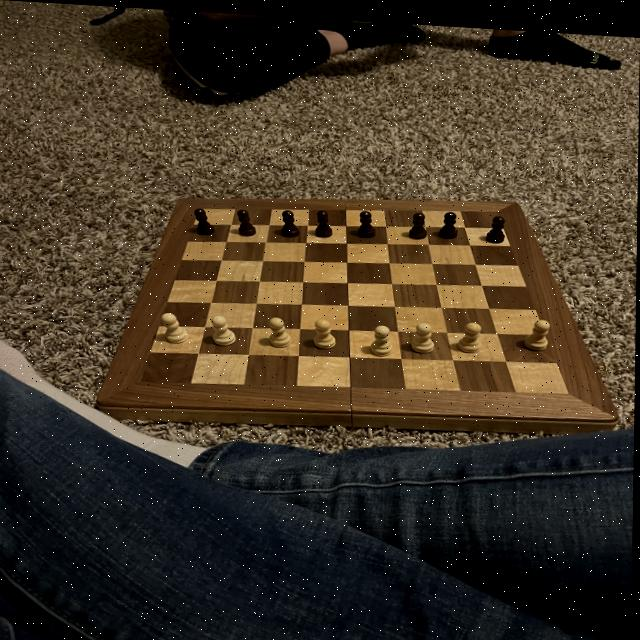black-knight: (352, 202, 382, 237), (191, 202, 218, 235), (438, 202, 463, 237), (310, 204, 337, 235), (485, 207, 509, 240), (406, 206, 432, 236), (279, 205, 303, 236), (235, 205, 259, 234)
white-knight: (520, 309, 556, 347), (160, 310, 191, 344), (458, 313, 486, 350), (266, 312, 295, 347), (369, 319, 396, 356), (311, 314, 339, 348), (210, 312, 238, 346), (410, 317, 436, 350)
